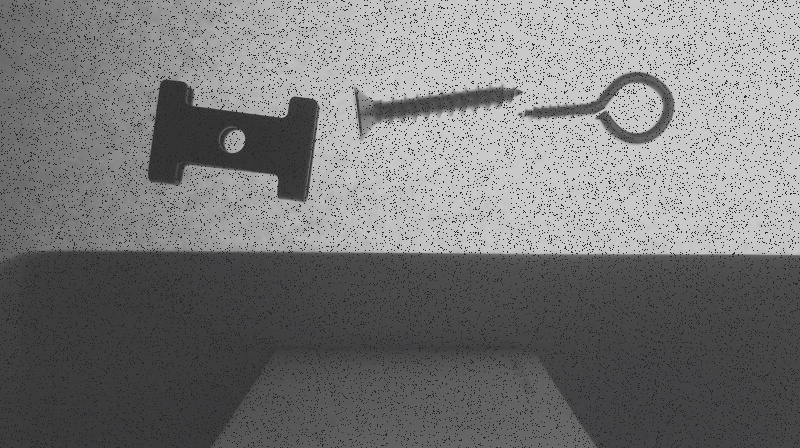O001: (515, 71, 675, 145)
O002: (146, 79, 320, 200)
S001: (353, 84, 520, 139)
